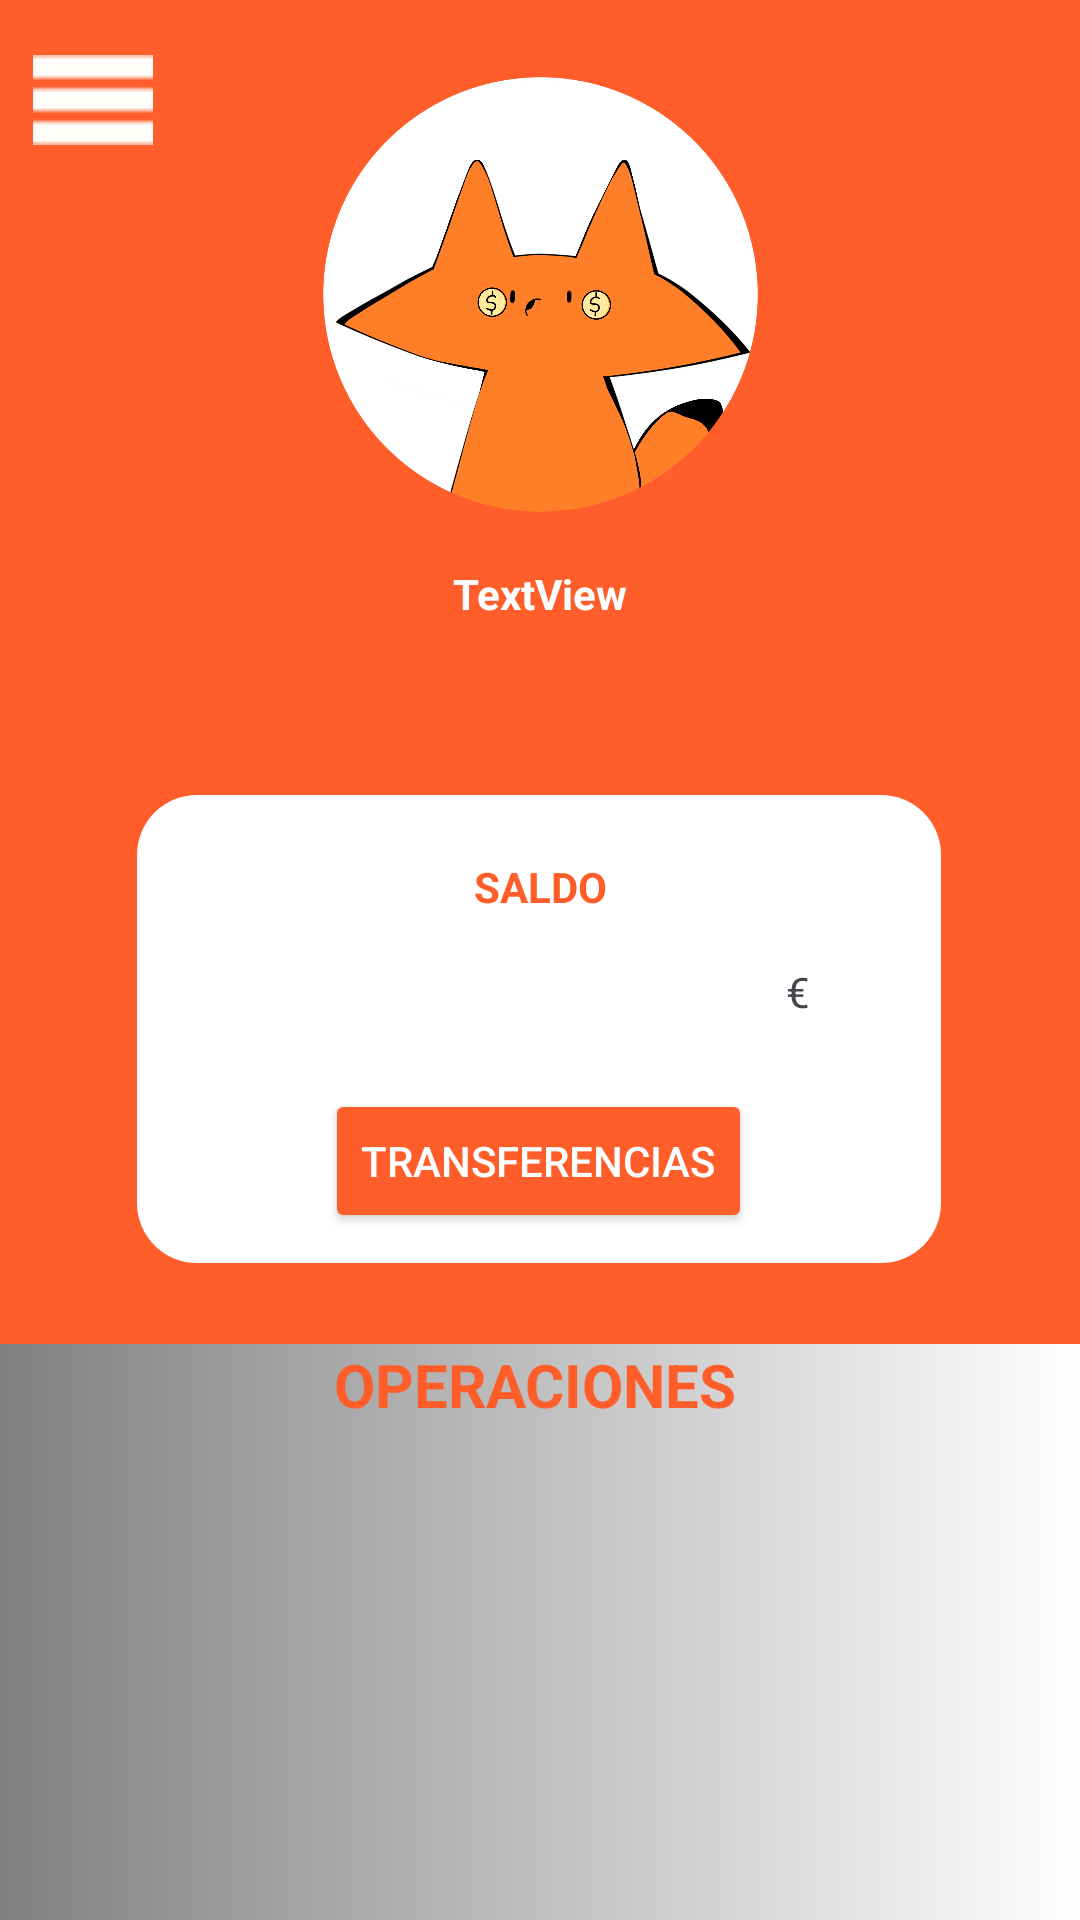

Where to tap for icons on this 1080x1920 app screen, as point (x, y):
menu: point (93, 100)
